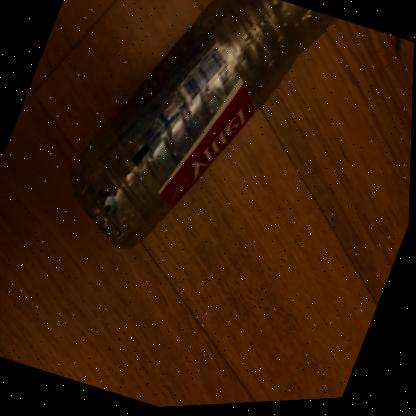Plastic: (71, 0, 335, 247)
